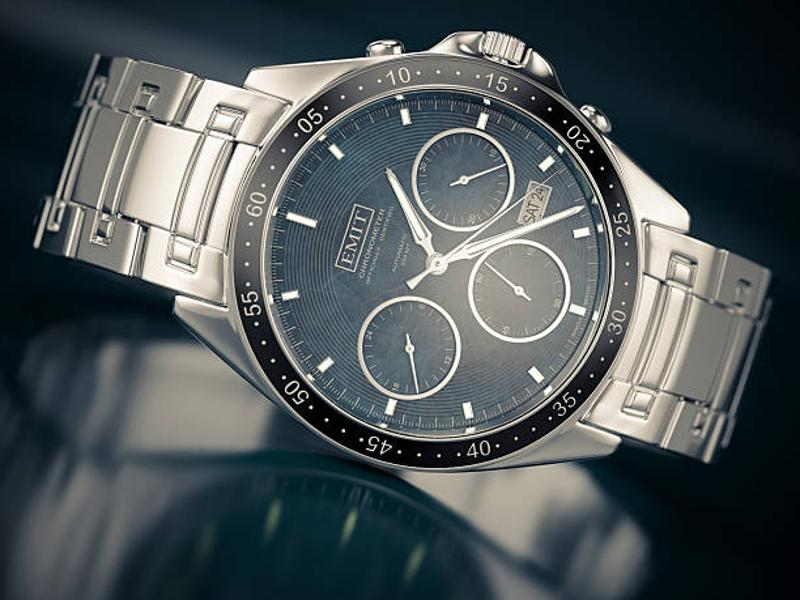watch: (33, 28, 775, 475)
